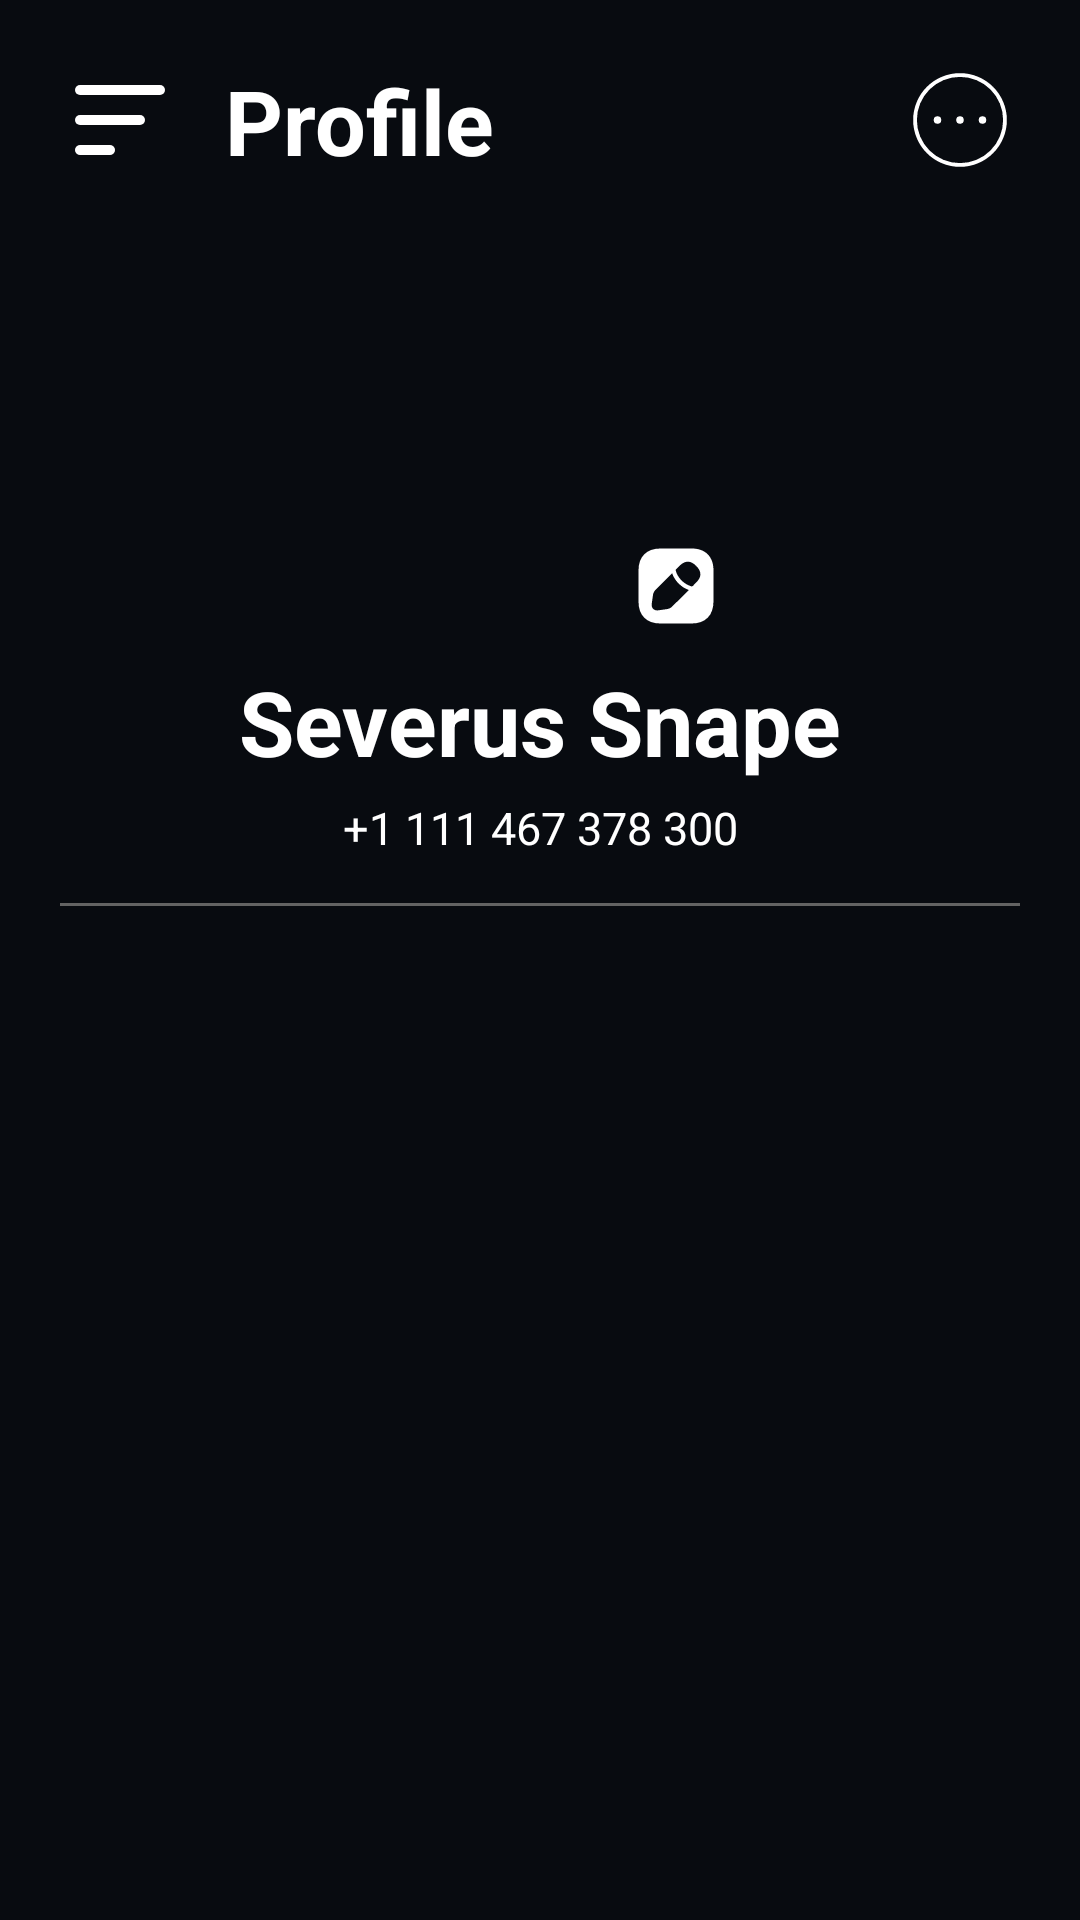

Icons on this 1080 x 1920 Android screen, each with the point to tap as point (x, y):
burger: point (120, 120)
edit: point (676, 586)
options: point (960, 120)
